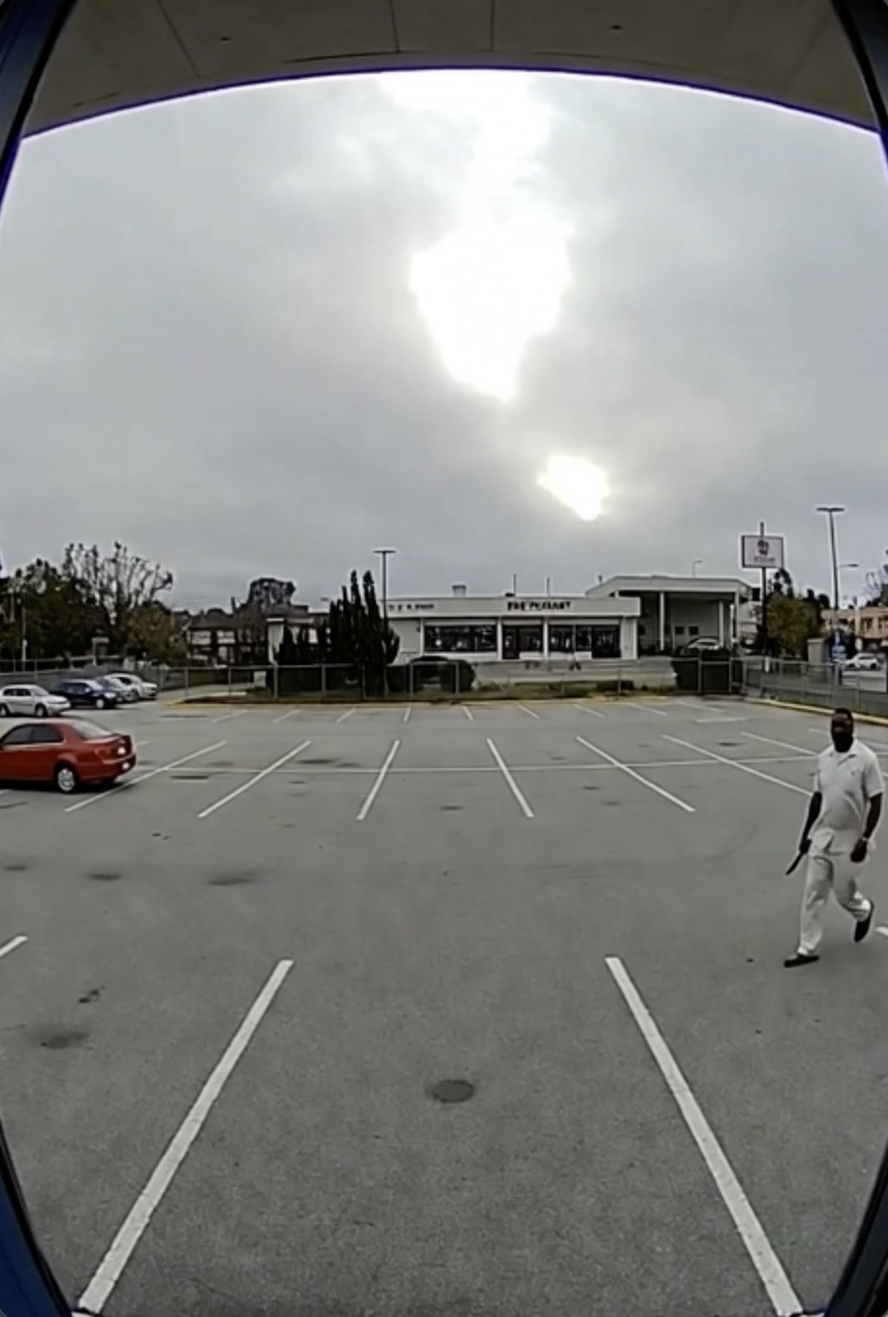Heavy Gun: (787, 708, 883, 974)
Knife: (783, 836, 816, 879)
